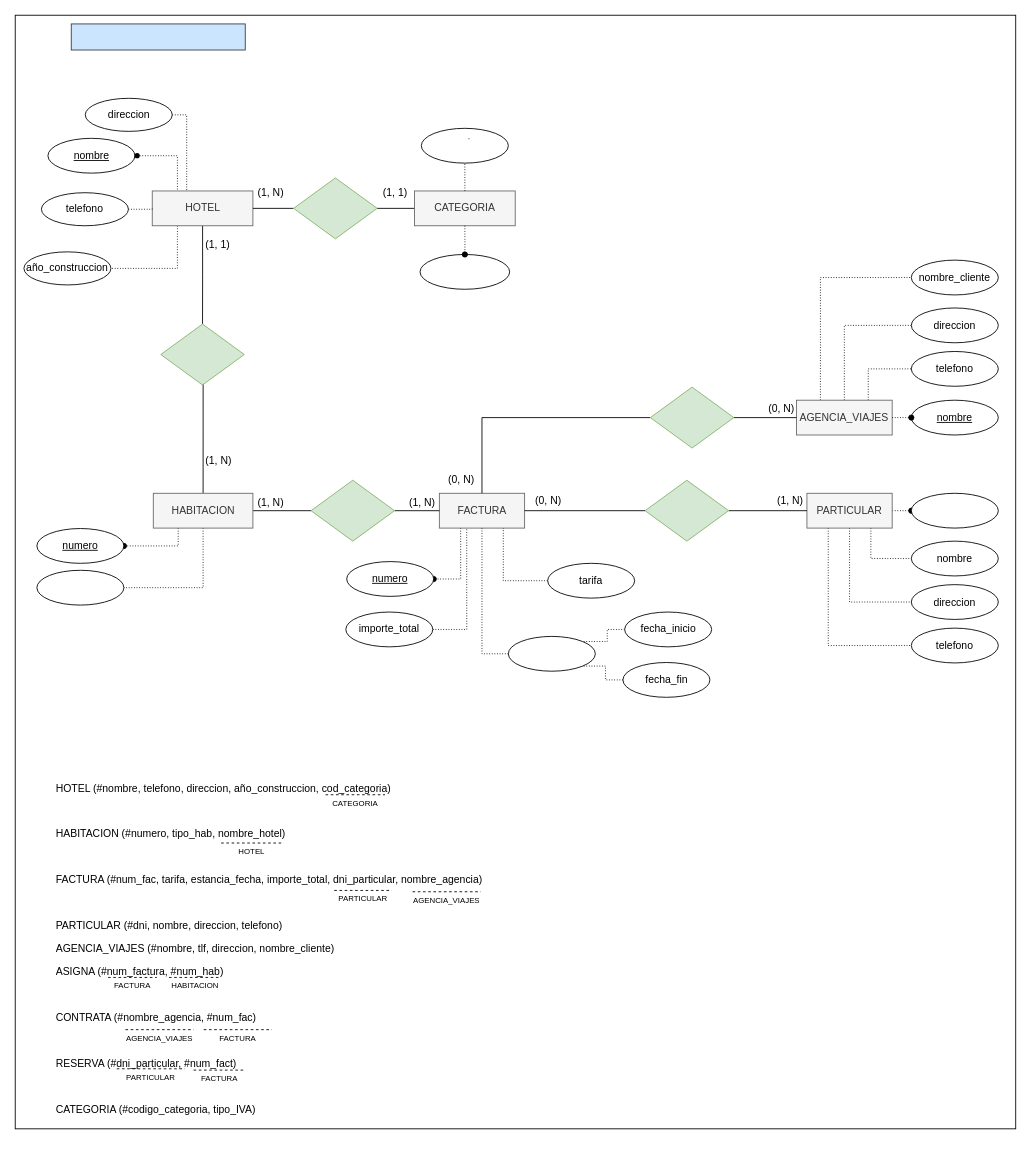
Image size: 1031x1155. Some labels were removed from this diagram. The shapes that lost their labels are listed below. From the top down, each one's centre as x and y in pixels, then its label:
At pixel 157 36: "EJER. 14 - CADENA HOTELES".
At pixel 464 145: "tipo_IVA".
At pixel 335 208: "PERTENECE 1:N".
At pixel 464 271: "codigo_categoria".
At pixel 202 354: "TIENE 1:N".
At pixel 691 417: "CONTRATA N:N".
At pixel 352 510: "ASIGNA N:N".
At pixel 686 510: "RESERVA N:N".
At pixel 954 510: "dni".
At pixel 80 587: "tipo".
At pixel 551 653: "estancia".
